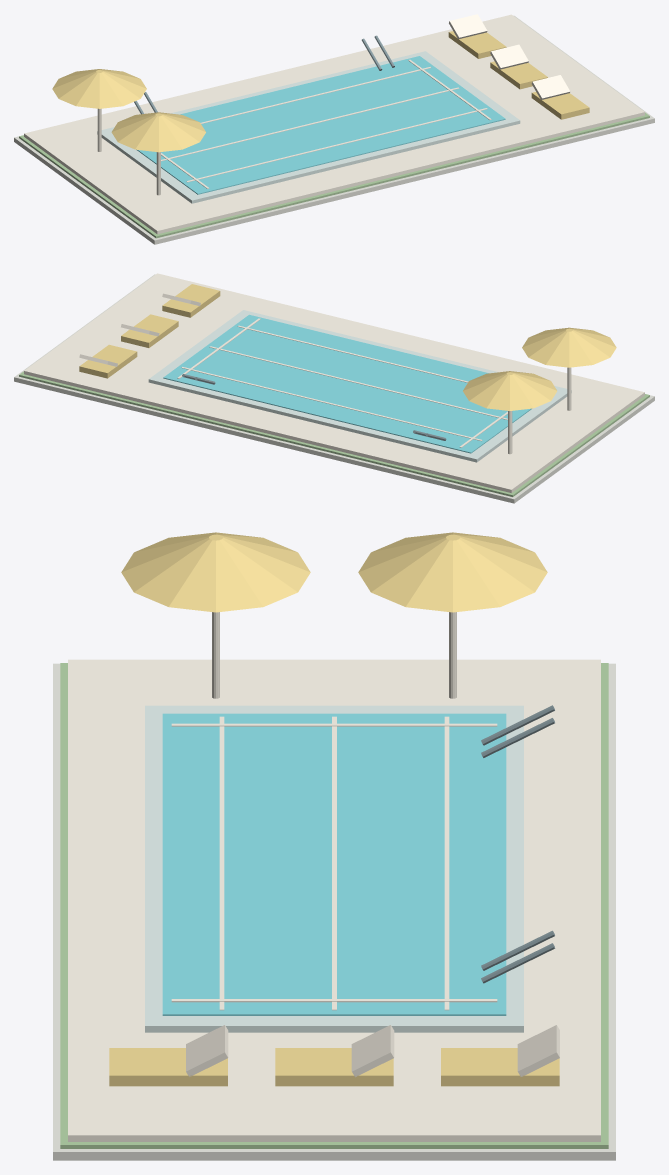
File: remaster_pool.glb
The picture shows the model from 3 angles, top to bottom: view 1: azimuth 30°, elevation 25°; view 2: azimuth 150°, elevation 25°; view 3: azimuth 270°, elevation 25°; orthographic projection. The views are drawn at different scales.
Parts seen in each view (by area): view 1: pool deck, water surface, blue tiled basin, lot foundation.002, lot surface.002, sun umbrella, sun umbrella.001, sun lounger, sun lounger.002, sun lounger.001, swim lane stripe, swim lane stripe.001 (+4 smaller); view 2: pool deck, water surface, blue tiled basin, lot foundation.002, lot surface.002, sun umbrella, sun umbrella.001, sun lounger, sun lounger.002, sun lounger.001, swim lane stripe.002, swim lane stripe.001 (+1 smaller); view 3: pool deck, water surface, blue tiled basin, lot foundation.002, sun umbrella, sun umbrella.001, lot surface.002, sun lounger.002, sun lounger.001, sun lounger, swim lane stripe, swim lane stripe.002 (+6 smaller).
Boxes of the visible parts, box(x1,y1,x2,y2) form: pool deck: box(24, 14, 644, 234); water surface: box(136, 56, 505, 194); blue tiled basin: box(97, 51, 520, 203); lot foundation.002: box(14, 15, 654, 244); lot surface.002: box(19, 112, 649, 238); sun umbrella: box(111, 112, 205, 152); sun umbrella.001: box(52, 69, 146, 108); sun lounger: box(531, 92, 589, 119); sun lounger.002: box(448, 31, 506, 58); sun lounger.001: box(490, 61, 547, 89); swim lane stripe: box(186, 108, 487, 182); swim lane stripe.001: box(161, 87, 459, 161); pool deck: box(24, 273, 644, 492); water surface: box(163, 314, 531, 453); blue tiled basin: box(148, 310, 571, 462); lot foundation.002: box(14, 274, 654, 503); lot surface.002: box(19, 371, 649, 496); sun umbrella: box(522, 327, 616, 367); sun umbrella.001: box(463, 371, 557, 410); sun lounger: box(162, 284, 220, 317); sun lounger.002: box(79, 344, 137, 378); sun lounger.001: box(121, 314, 178, 347); swim lane stripe.002: box(181, 367, 482, 441); swim lane stripe.001: box(209, 346, 507, 419); pool deck: box(68, 659, 600, 1141); water surface: box(162, 713, 506, 1015); blue tiled basin: box(145, 705, 523, 1032); lot foundation.002: box(53, 663, 615, 1160); sun umbrella: box(121, 532, 310, 612); sun umbrella.001: box(358, 532, 547, 612); lot surface.002: box(60, 663, 608, 1148); sun lounger.002: box(441, 1048, 559, 1086); sun lounger.001: box(275, 1048, 393, 1086); sun lounger: box(109, 1048, 227, 1086); swim lane stripe: box(219, 716, 224, 1010); swim lane stripe.002: box(444, 716, 449, 1010).
Size of the model in its own units: 19.5 by 3.32 by 9.5.
